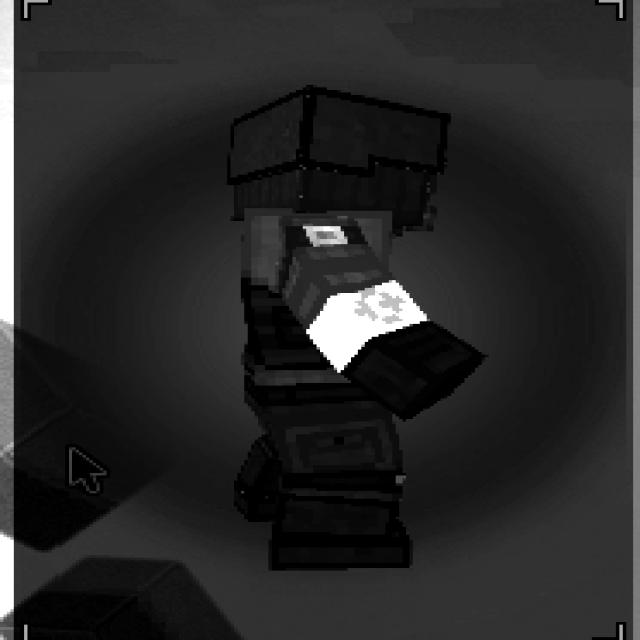Head: (224, 82, 451, 234)
Player: (220, 82, 485, 571)
